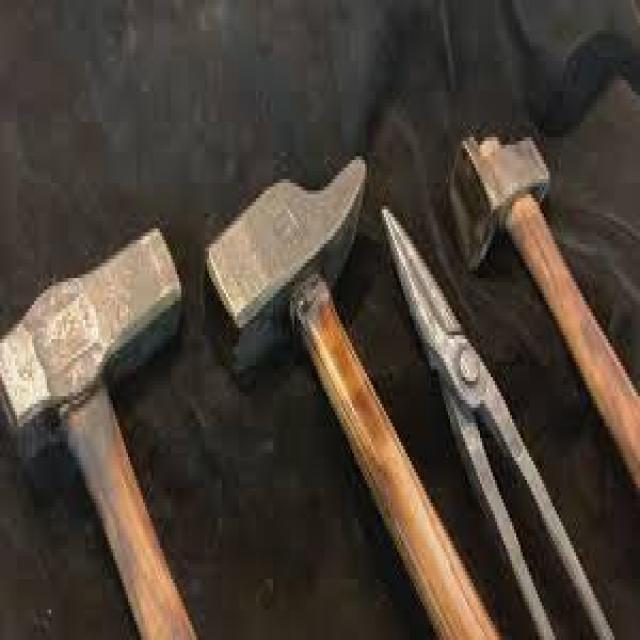hammer: (200, 145, 508, 640), (0, 209, 196, 640), (446, 122, 640, 499)
